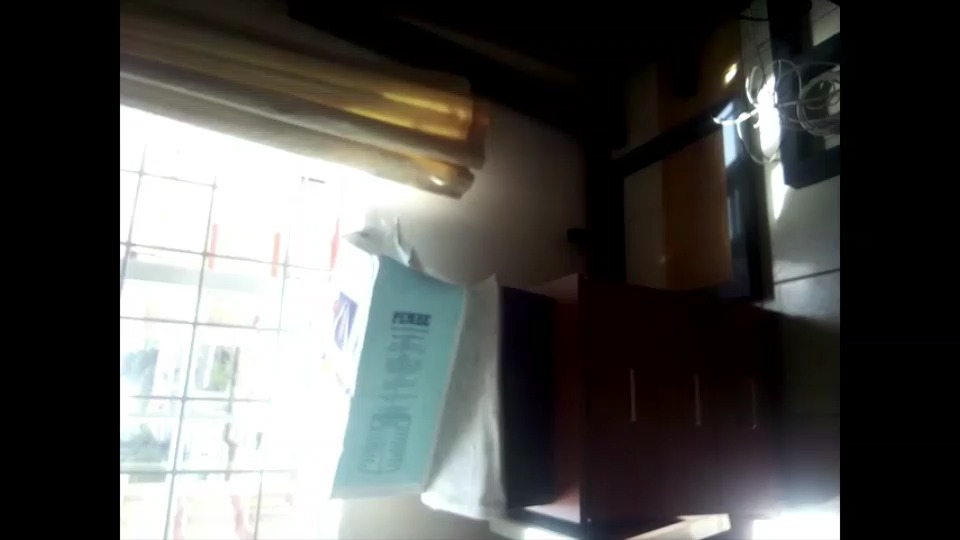wheat_flour_blue_label: (308, 233, 450, 492)
